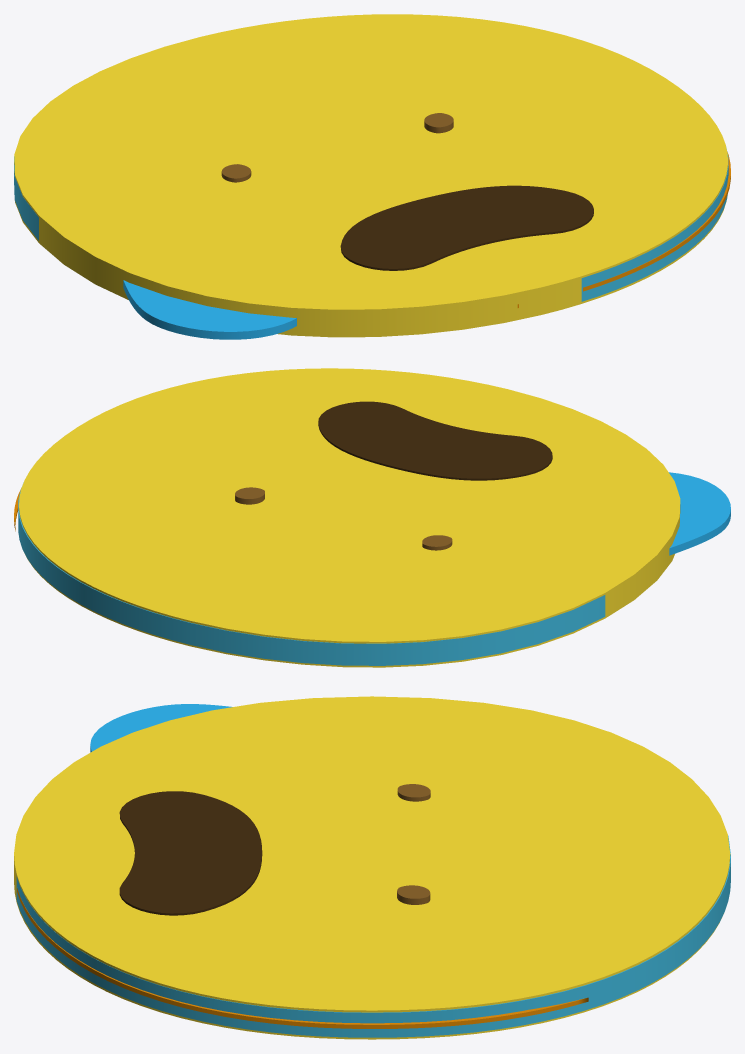
File: emoji_u1f630.glb
The picture shows the model from 3 angles, top to bottom: view 1: azimuth 30°, elevation 25°; view 2: azimuth 150°, elevation 25°; view 3: azimuth 270°, elevation 25°; orthographic projection. The views are drawn at different scales.
Parts seen in each view (by area): view 1: emoji_u1f630; view 2: emoji_u1f630; view 3: emoji_u1f630.
Part boxes in pixels (x1=…): emoji_u1f630: x1=14, y1=14, x2=730, y2=339; emoji_u1f630: x1=14, y1=368, x2=730, y2=667; emoji_u1f630: x1=14, y1=696, x2=730, y2=1039.
Size of the model in its own units: 0.033 by 0.002 by 0.0314.
